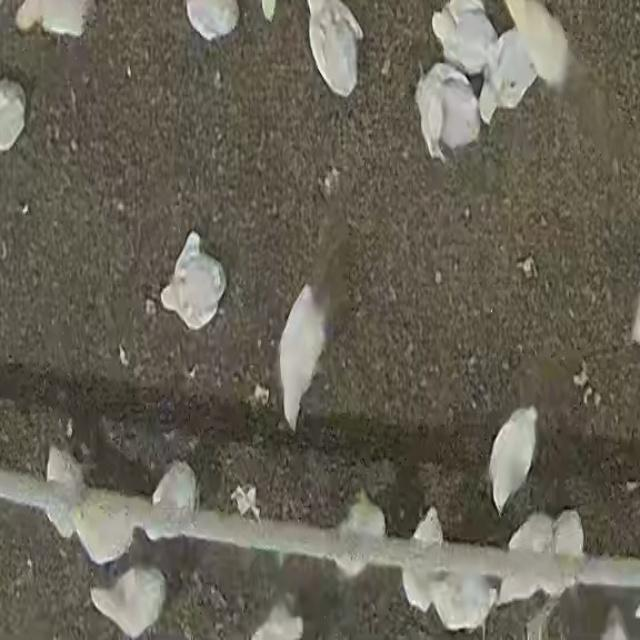chicken: (276, 283, 333, 431), (159, 232, 229, 331), (417, 64, 481, 160), (86, 562, 166, 637), (504, 2, 570, 88), (305, 1, 364, 96), (479, 29, 540, 120), (488, 407, 538, 515), (497, 505, 550, 606), (398, 504, 446, 612), (434, 1, 498, 76), (335, 489, 386, 578), (146, 459, 197, 543), (437, 556, 491, 632), (542, 509, 584, 597), (46, 443, 82, 541), (250, 603, 300, 640)
